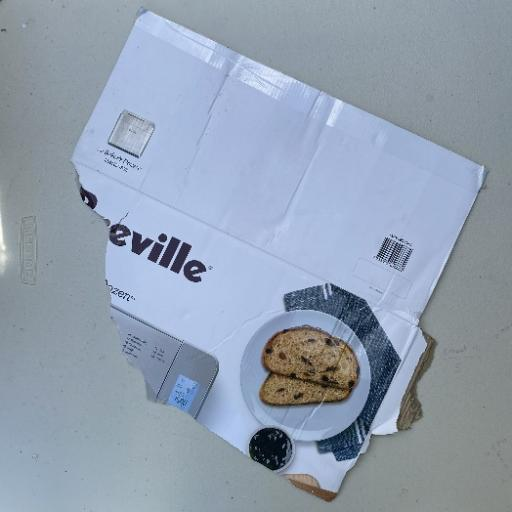Cardboard: (68, 8, 490, 500)
